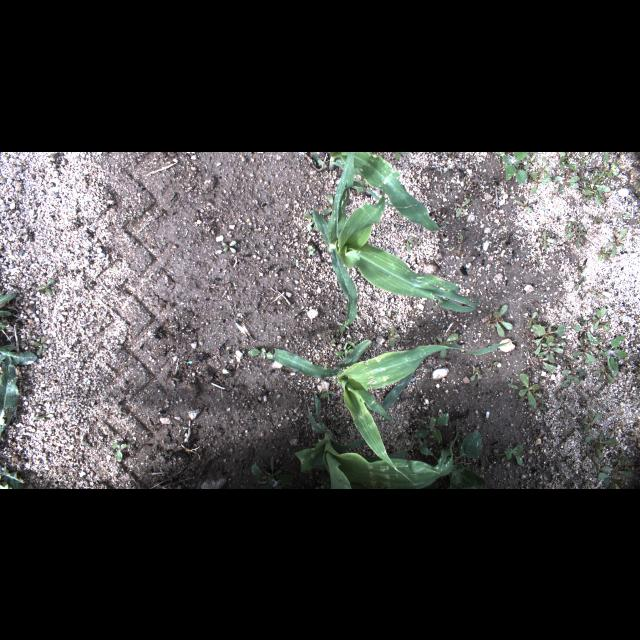crop: (270, 339, 516, 487), (313, 151, 479, 325), (294, 390, 460, 488), (324, 152, 446, 230)
weed: (418, 429, 486, 487), (0, 344, 38, 436), (588, 331, 628, 372), (598, 452, 634, 488), (410, 412, 450, 442), (483, 303, 512, 337), (584, 432, 618, 461), (502, 152, 530, 184), (560, 358, 588, 387), (531, 323, 565, 345), (552, 170, 580, 196), (519, 373, 539, 407), (582, 183, 612, 204), (565, 220, 587, 248), (0, 464, 24, 488), (527, 170, 551, 194), (536, 342, 564, 362), (607, 228, 627, 256), (591, 305, 611, 331), (598, 151, 618, 177), (110, 441, 134, 462), (579, 411, 601, 433), (504, 444, 524, 466), (572, 346, 596, 364), (536, 230, 556, 250), (0, 292, 16, 316), (593, 366, 615, 382), (247, 347, 276, 359), (453, 198, 471, 216), (538, 156, 552, 178), (38, 278, 56, 294), (34, 336, 48, 356), (387, 325, 399, 347), (524, 151, 538, 167), (471, 364, 482, 380), (32, 413, 54, 419)
